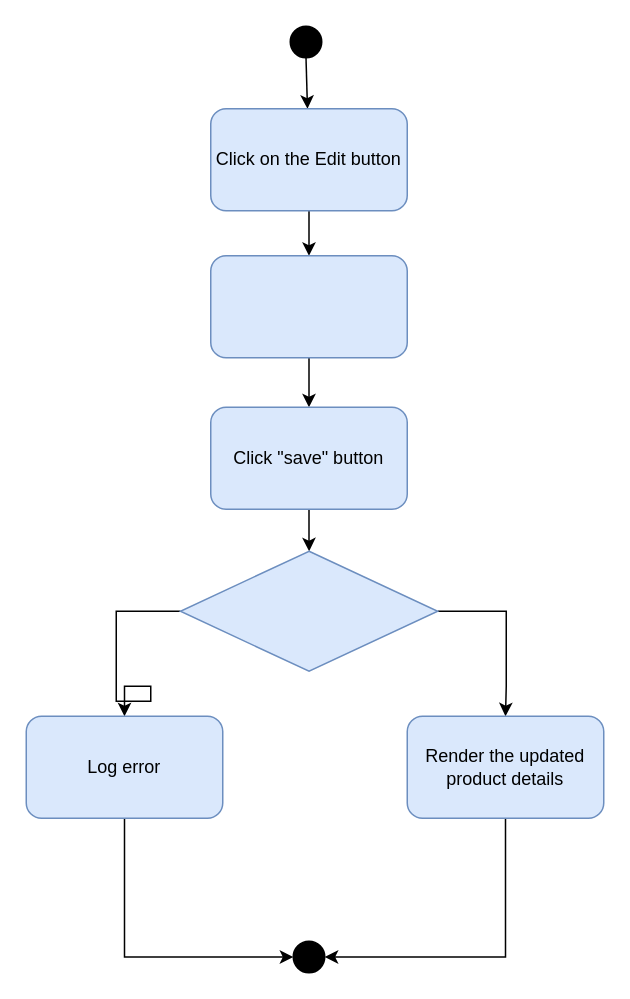
Image size: 630x999. Some labels were removed from this diagram. The shapes that lost their labels are listed below. From the top down, each one's centre as x and y in pixels, then its label:
point 308,306: Enter the content want to update with the coresponding fieald
point 308,610: Is update data valid ?
